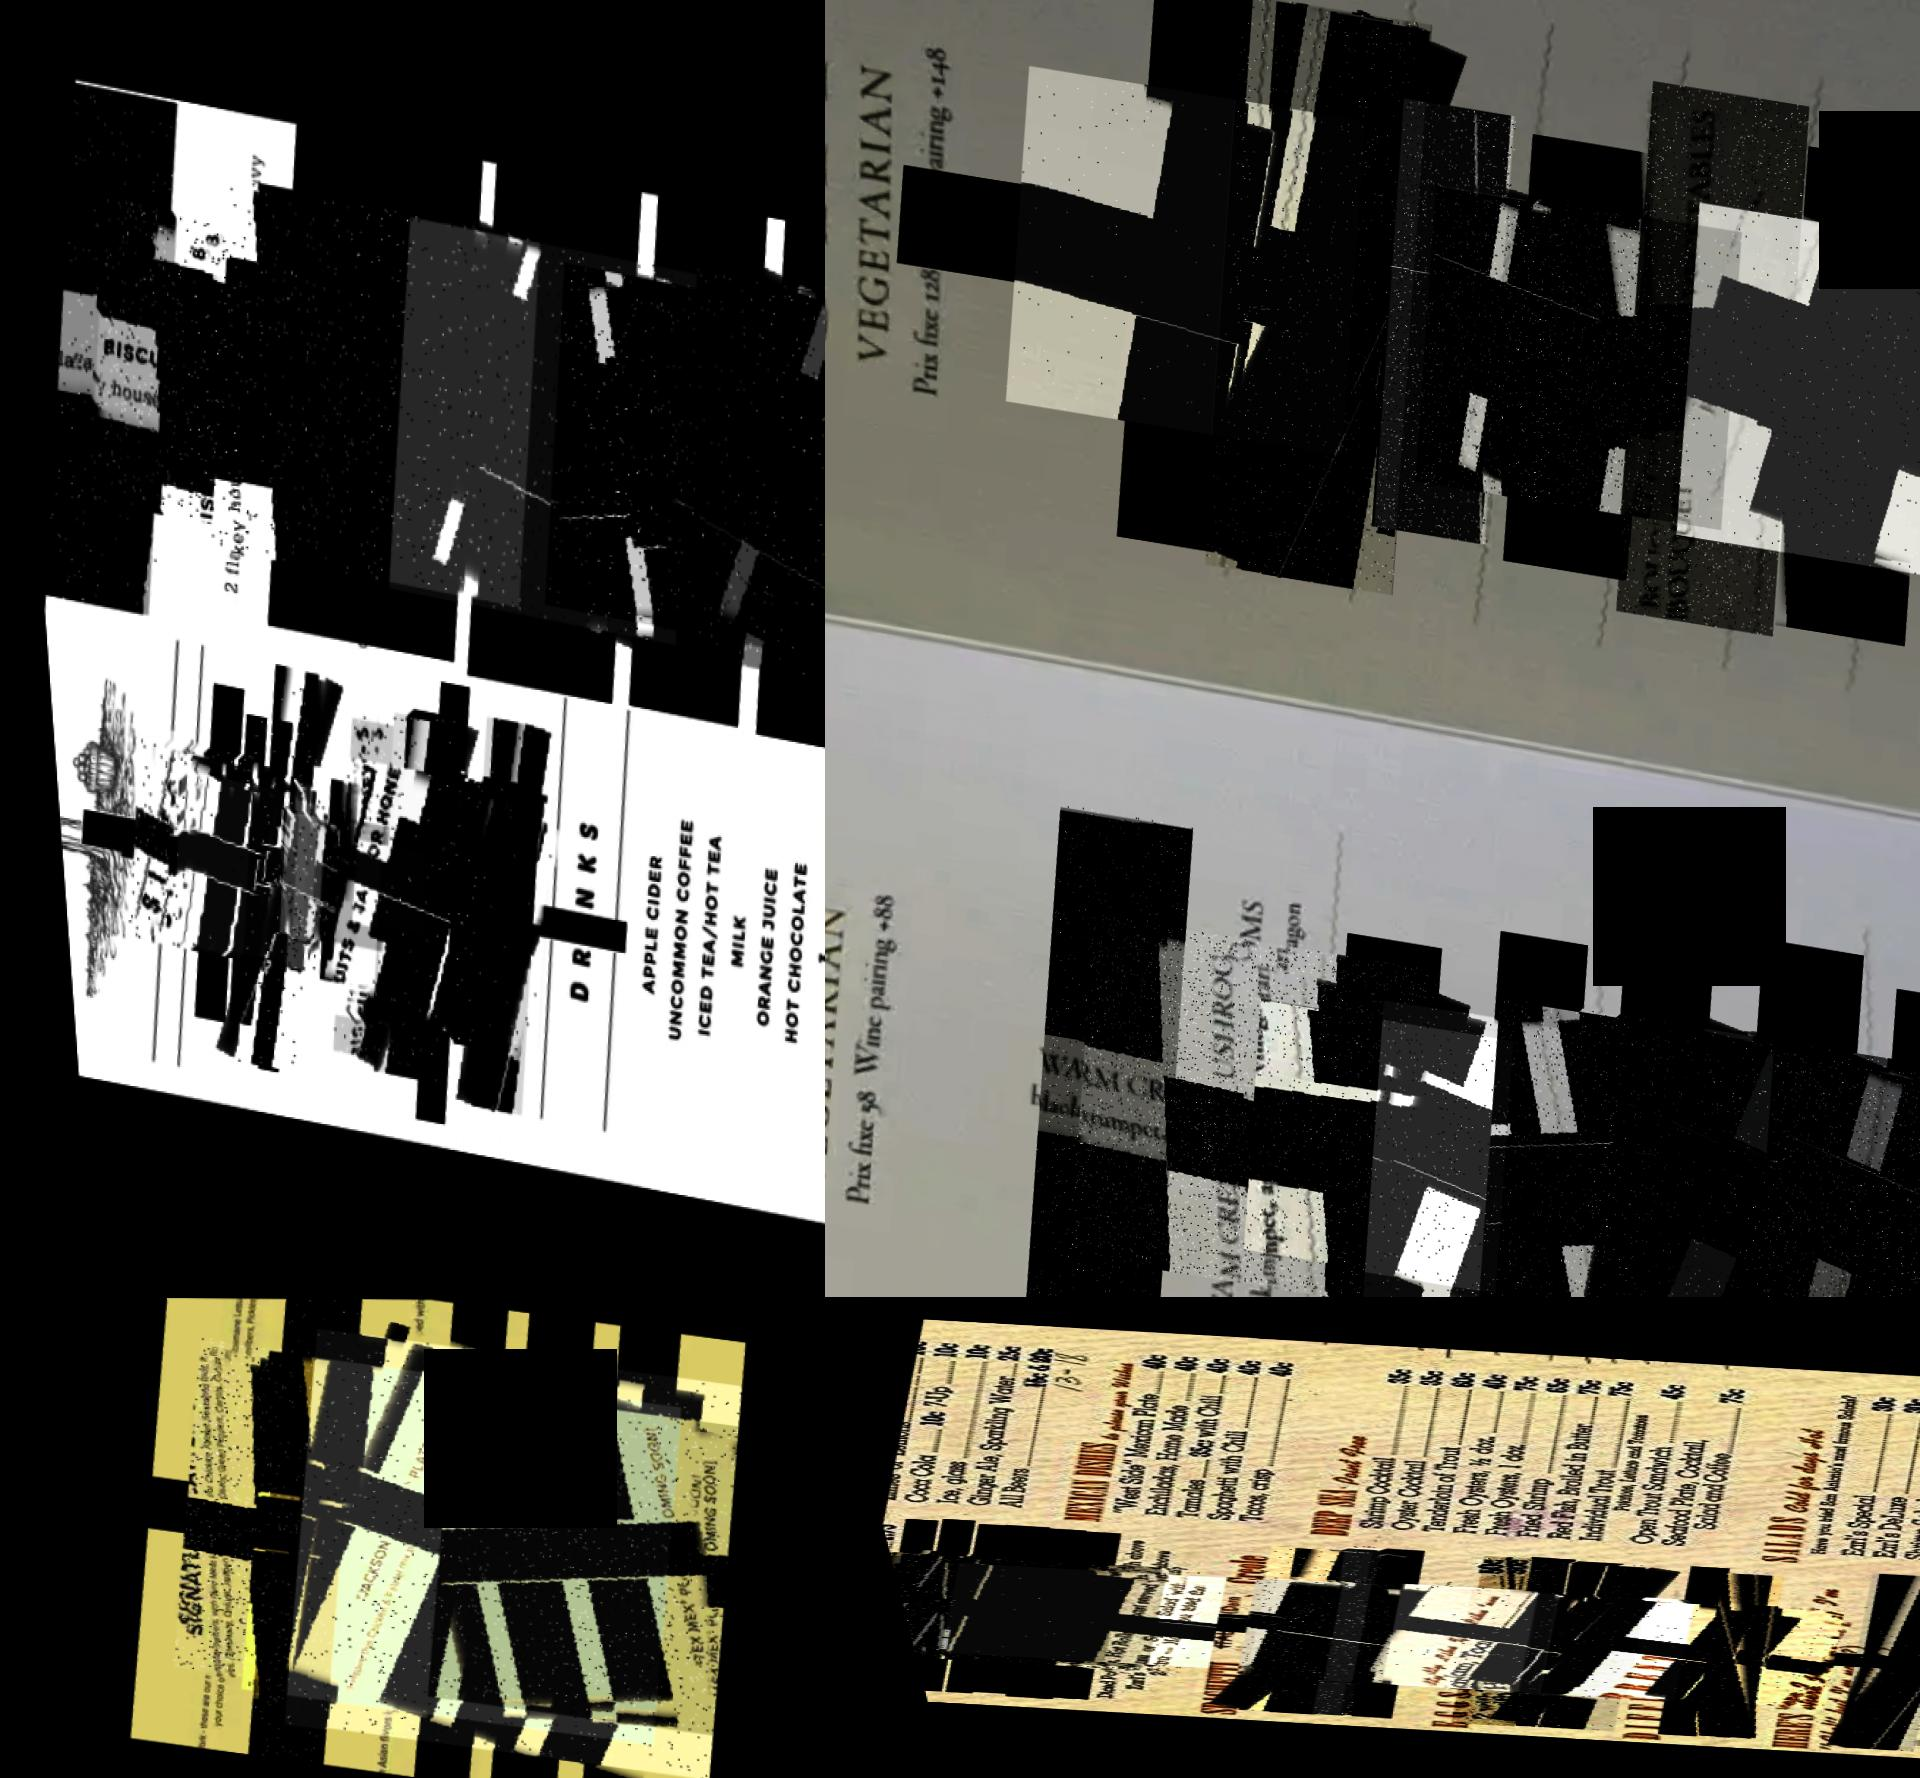Menu-Items: (243, 1325, 773, 1778), (206, 1350, 709, 1745), (1152, 0, 1472, 594), (137, 1335, 629, 1719), (358, 214, 739, 647), (1019, 912, 1442, 1296), (973, 64, 1388, 455), (181, 176, 557, 605), (1565, 77, 1843, 634), (393, 1385, 763, 1733), (1386, 181, 1756, 527), (955, 800, 1213, 1296), (1428, 990, 1830, 1296), (517, 258, 825, 656), (1313, 994, 1693, 1296), (67, 196, 376, 549), (7, 80, 211, 614), (1641, 199, 1920, 587), (1549, 1012, 1920, 1296), (199, 1298, 403, 1765), (1335, 95, 1544, 544), (1199, 994, 1514, 1290), (642, 264, 825, 687), (301, 753, 559, 1047), (199, 659, 338, 1070), (1704, 1049, 1920, 1296), (425, 713, 555, 1112), (338, 703, 472, 1081), (104, 731, 311, 967), (1341, 1582, 1699, 1699), (876, 1552, 1209, 1673), (1197, 1576, 1544, 1689), (1502, 1592, 1846, 1706), (298, 708, 408, 1055), (1184, 1544, 1397, 1714), (1460, 1559, 1671, 1729), (875, 1551, 1172, 1668), (906, 1562, 1229, 1668), (152, 769, 324, 965), (1607, 1380, 1791, 1551), (1395, 1554, 1567, 1726), (1524, 1368, 1691, 1544), (1636, 1572, 1801, 1738), (876, 1554, 1126, 1663), (1184, 1351, 1336, 1525), (915, 1335, 1064, 1507), (1122, 1350, 1271, 1522), (1780, 1571, 1920, 1750), (1261, 1544, 1407, 1714), (948, 1338, 1094, 1509), (1087, 1348, 1233, 1519), (1059, 1345, 1203, 1517), (1154, 1350, 1298, 1522), (1579, 1375, 1723, 1547), (876, 1551, 1100, 1661), (1370, 1363, 1514, 1534), (1433, 1368, 1572, 1540), (1402, 1367, 1544, 1534), (1306, 1362, 1447, 1530), (855, 1336, 993, 1507), (885, 1338, 1024, 1507), (1494, 1370, 1631, 1539), (1467, 1372, 1602, 1540), (418, 766, 500, 1044), (1346, 1363, 1482, 1530), (841, 1335, 965, 1504), (261, 805, 390, 950), (876, 1556, 1050, 1656), (876, 1557, 1009, 1654), (264, 774, 326, 968), (1855, 1576, 1920, 1750), (340, 838, 425, 935)
